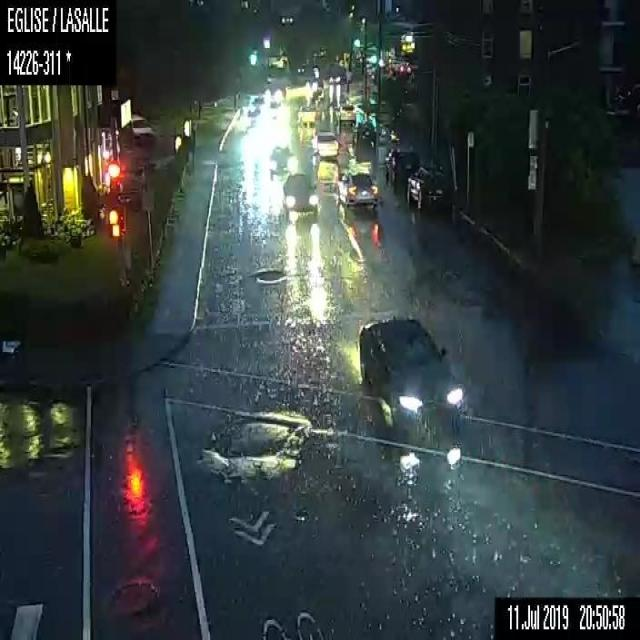vehicle: (357, 315, 462, 429), (406, 164, 451, 206), (282, 170, 317, 219), (338, 169, 378, 211), (383, 149, 415, 189), (268, 144, 296, 176), (311, 130, 337, 160), (128, 114, 152, 142), (334, 101, 355, 125), (352, 121, 376, 140), (297, 104, 315, 128), (264, 84, 286, 102), (304, 76, 324, 90), (328, 70, 345, 83)
